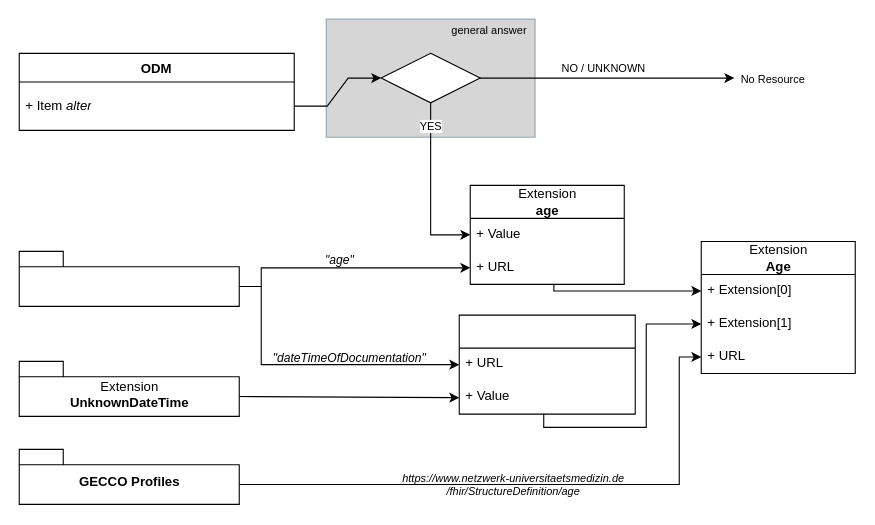
Some shapes in this 875 by 525 pixel diagram are drawn without their labels. The box of each missing label's shape, as (x1, y1, x2, y2) in pixels:
Extension dateTimeOfDocumentation: (458, 314, 635, 414)
getCode(): (380, 52, 480, 103)
String URL: (18, 250, 239, 306)
